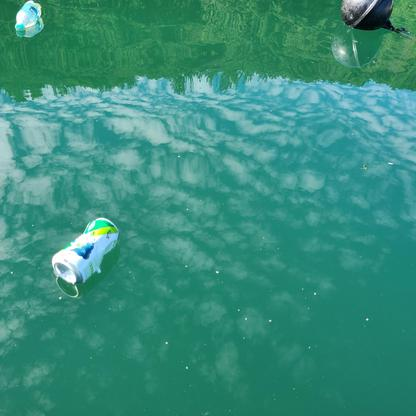can: (52, 218, 118, 283)
plastic bottle: (15, 1, 42, 32)
